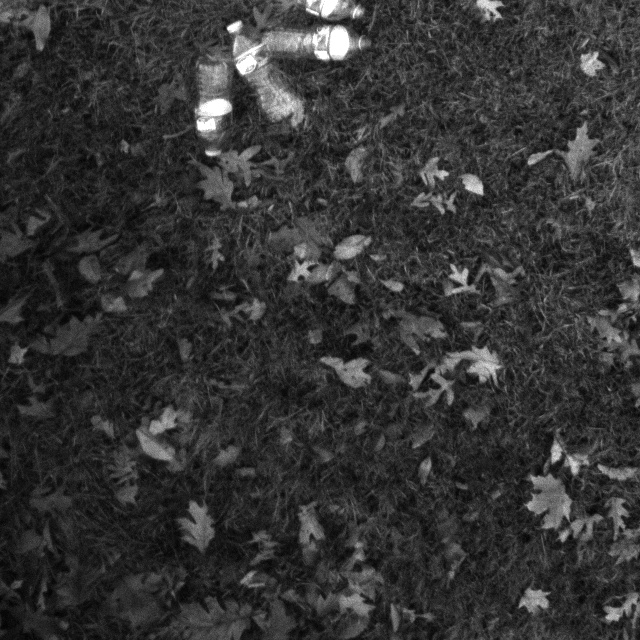bottle: (225, 21, 307, 138), (180, 47, 247, 183), (253, 14, 380, 72)
